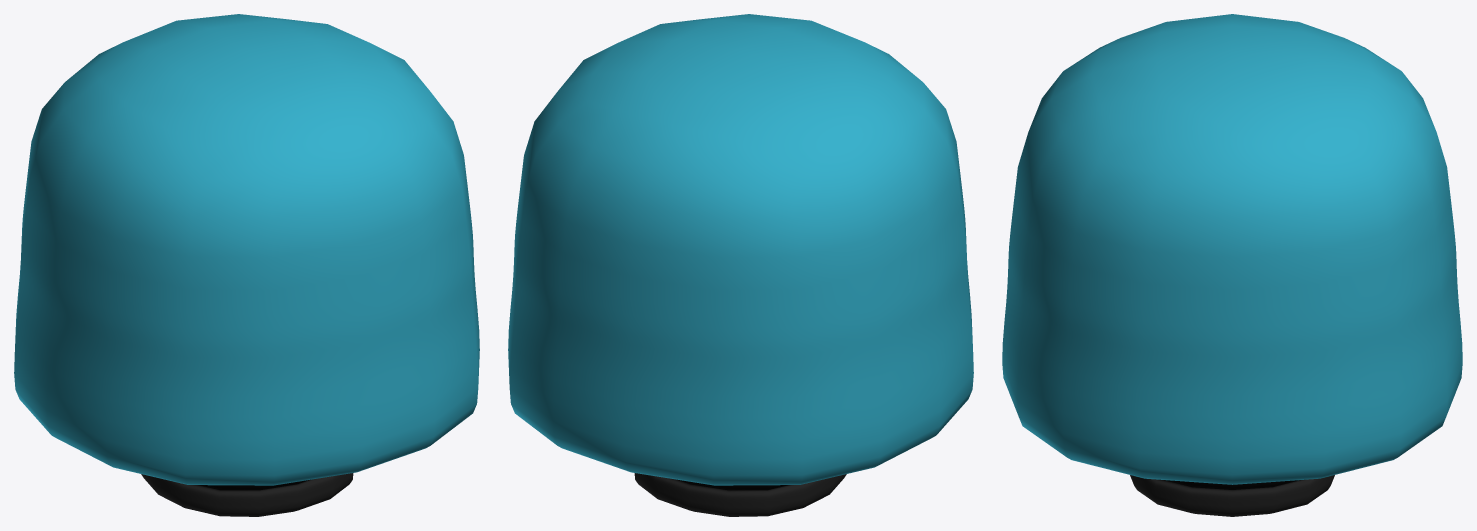
The picture shows the model from 3 angles, left to right: view 1: azimuth 30°, elevation 25°; view 2: azimuth 150°, elevation 25°; view 3: azimuth 270°, elevation 25°; orthographic projection.
Parts seen in each view (by area): view 1: Deckel1; view 2: Deckel1; view 3: Deckel1.
Part boxes in pixels (x1,y1,x2,y2): Deckel1: (14, 14, 479, 516); Deckel1: (508, 14, 973, 516); Deckel1: (1002, 14, 1462, 516).
Bounding box in the file's own units: 6.86 × 7.11 × 6.86.
